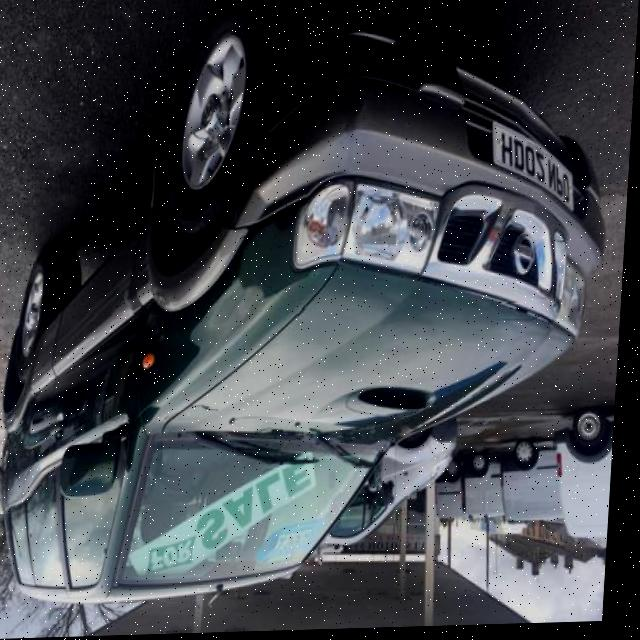plate: (489, 122, 580, 218)
